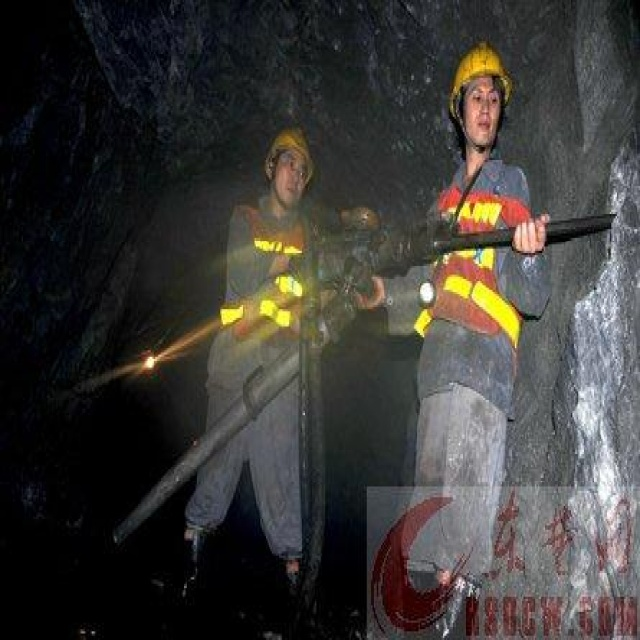Helmet: (434, 32, 524, 173), (253, 115, 321, 215)
Reflective vest: (416, 149, 537, 371), (211, 201, 317, 363)
